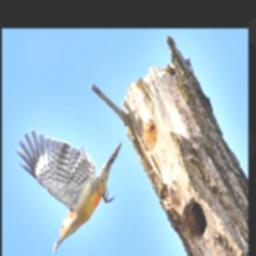Woodpecker: (14, 127, 122, 255)
